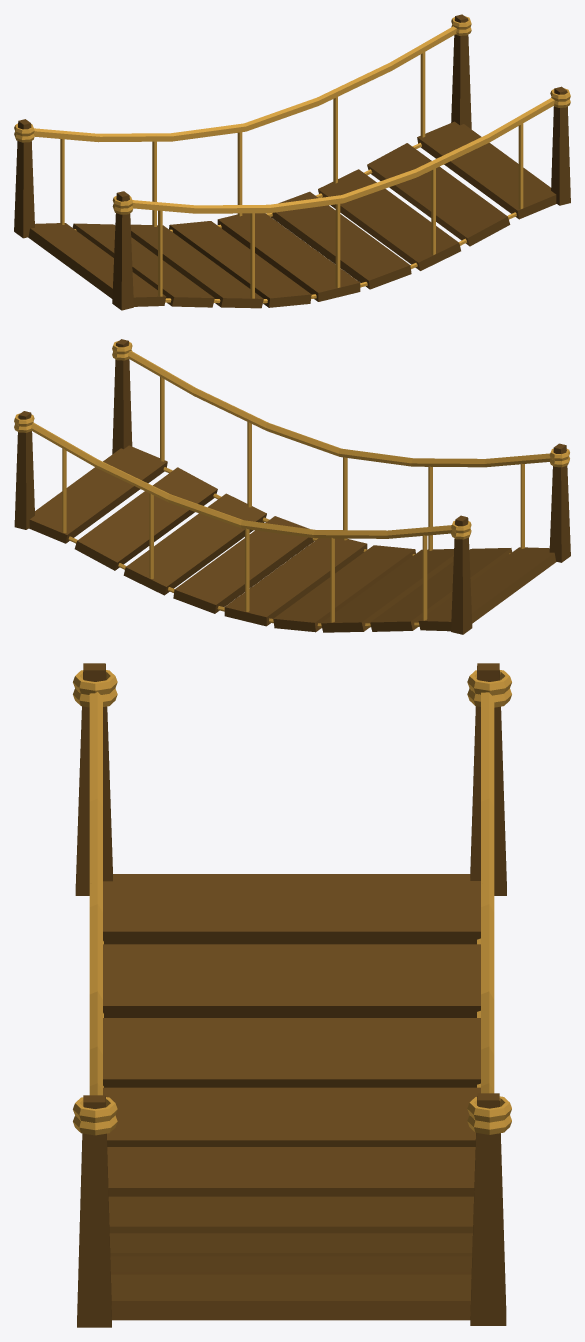
File: bridge.obj
3 views of the same model, one above another, from view 1: azimuth 30°, elevation 25°; view 2: azimuth 150°, elevation 25°; view 3: azimuth 270°, elevation 25° (orthographic). The views are drawn at different scales.
Parts seen in each view (by area): view 1: Cube.001_Cube.011; view 2: Cube.001_Cube.011; view 3: Cube.001_Cube.011.
Part boxes in pixels (x1,y1,x2,y2): Cube.001_Cube.011: (14,14,570,310); Cube.001_Cube.011: (14,339,570,634); Cube.001_Cube.011: (73,663,511,1327).
Bounding box in the file's own units: 21.72 × 7.05 × 9.07.
